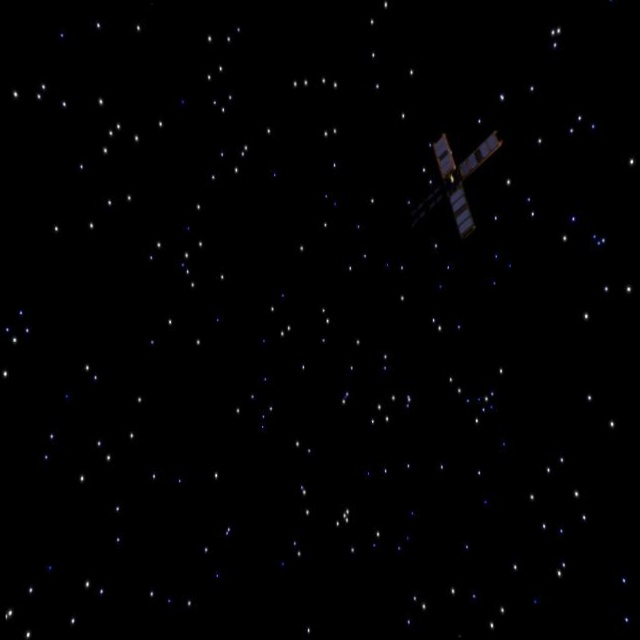satellite: (396, 105, 507, 251)
